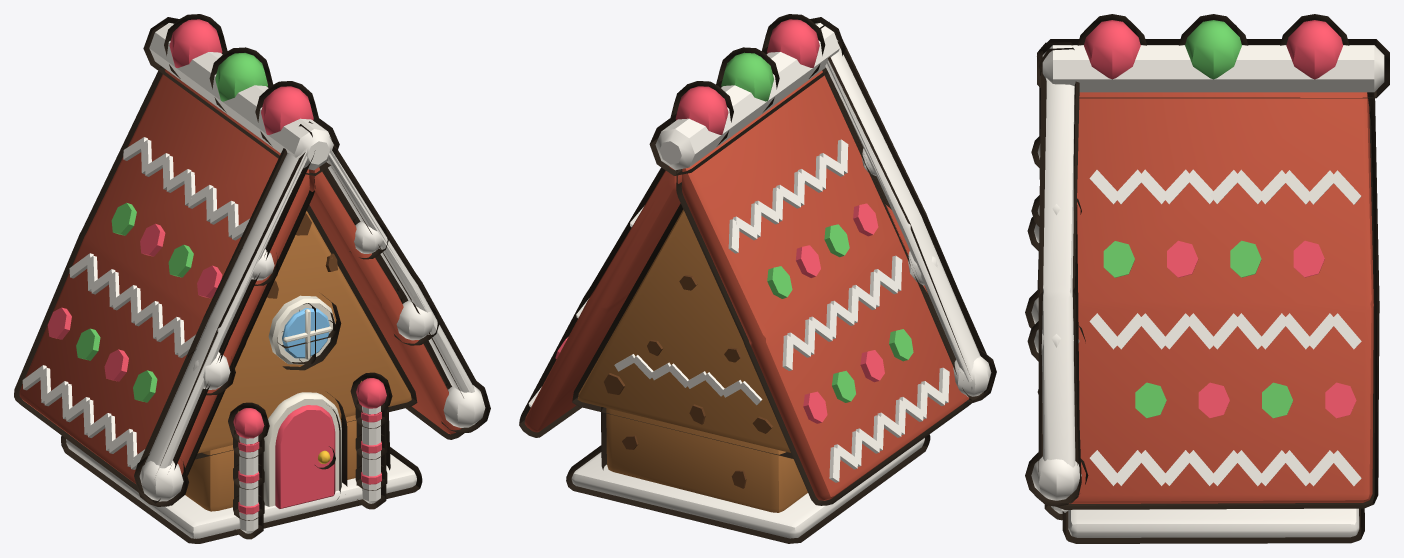
The model's file is house-6.glb.
3 views of the same model, side by side, from view 1: azimuth 30°, elevation 25°; view 2: azimuth 150°, elevation 25°; view 3: azimuth 270°, elevation 25° (orthographic). The views are drawn at different scales.
Parts seen in each view (by area): view 1: house-6; view 2: house-6; view 3: house-6.
Part boxes in pixels (bbox=[...]): house-6: bbox=[14, 14, 490, 543]; house-6: bbox=[519, 14, 996, 543]; house-6: bbox=[1025, 14, 1389, 543].
Size of the model in its own units: 3.55 by 4.08 by 2.88.
